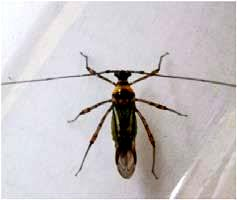Helopeltis-insect: (79, 50, 162, 180)
